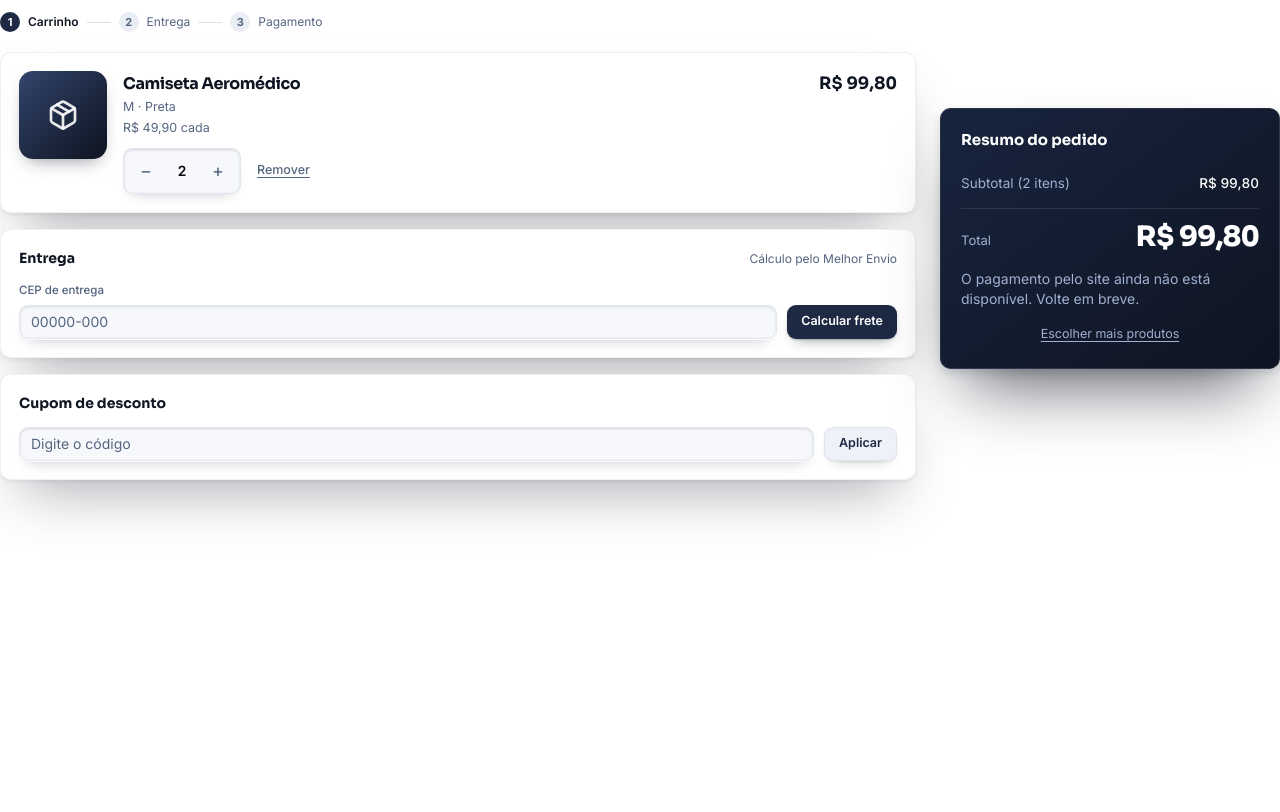
CartView com cupom › aplicar envia o código, mostra o desconto e o total
This screenshot has width=1280, height=812.
Expected: the link "Camiseta Aeromédico" is shown, left=123, top=73, right=300, bottom=94
Step 1. Type "verao10" into the field named "Cupom de desconto" → (416,444), box left=19, top=427, right=814, bottom=461
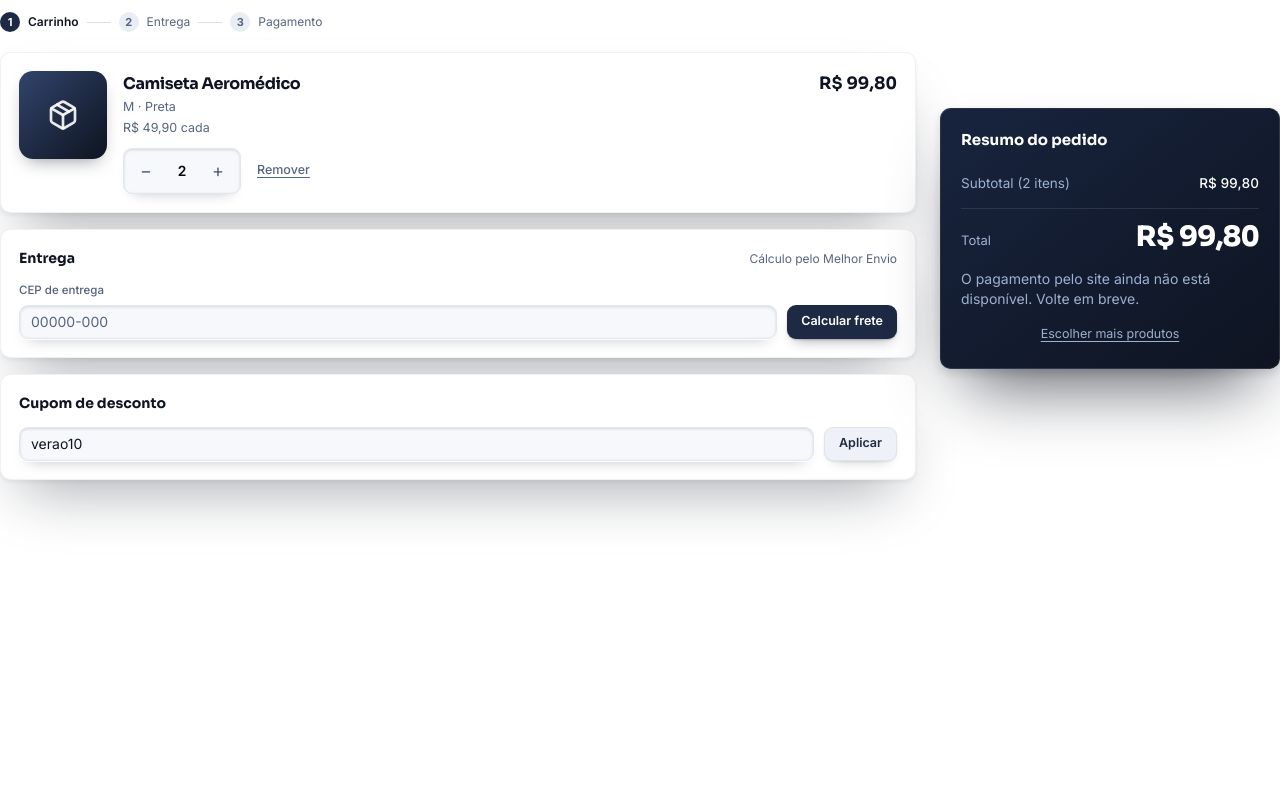
Step 2. Click the button "Aplicar" → (860,444), box left=824, top=427, right=897, bottom=461
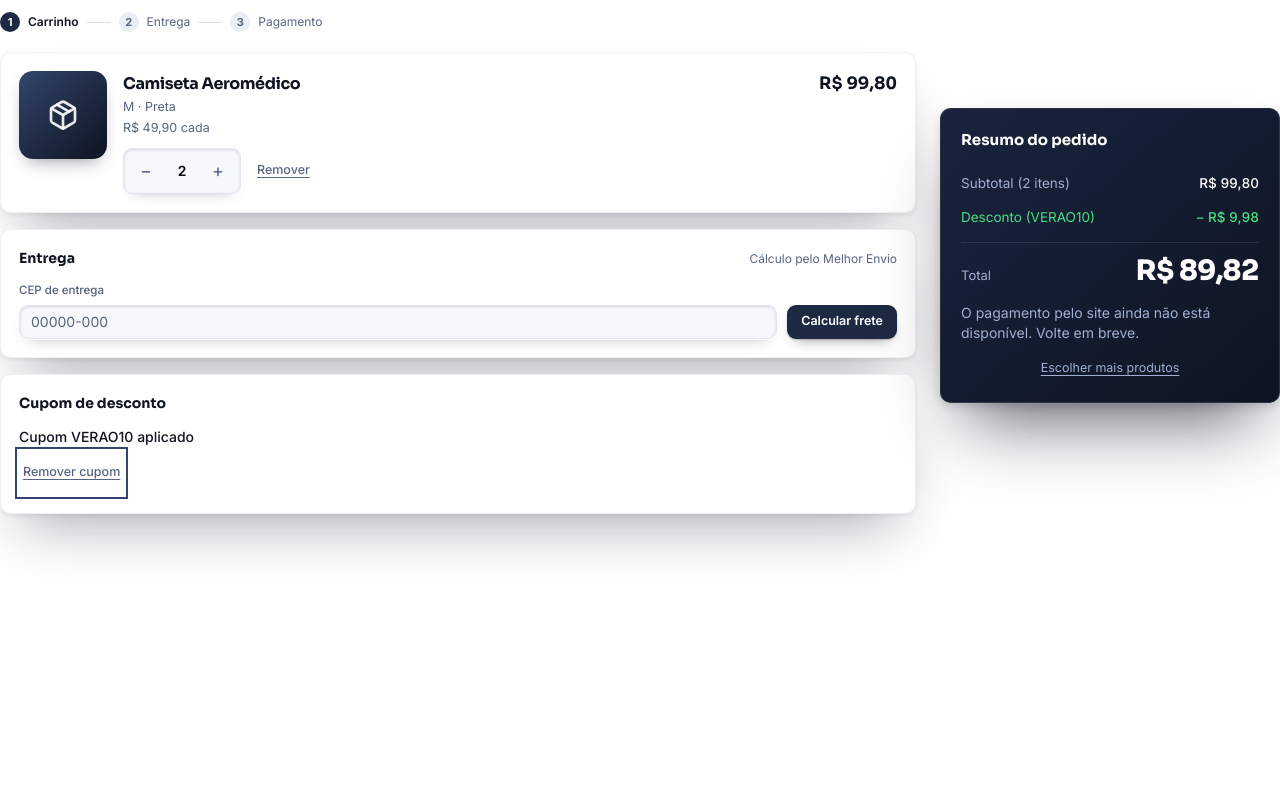
Now the text "Cupom VERAO10 aplicado" is shown, box left=19, top=428, right=194, bottom=445
Now the text with test id "cart-discount" reads "− R$ 9,98", box left=1196, top=209, right=1259, bottom=225
Now the text with test id "cart-total" reads "R$ 89,82", box left=1136, top=253, right=1259, bottom=288
